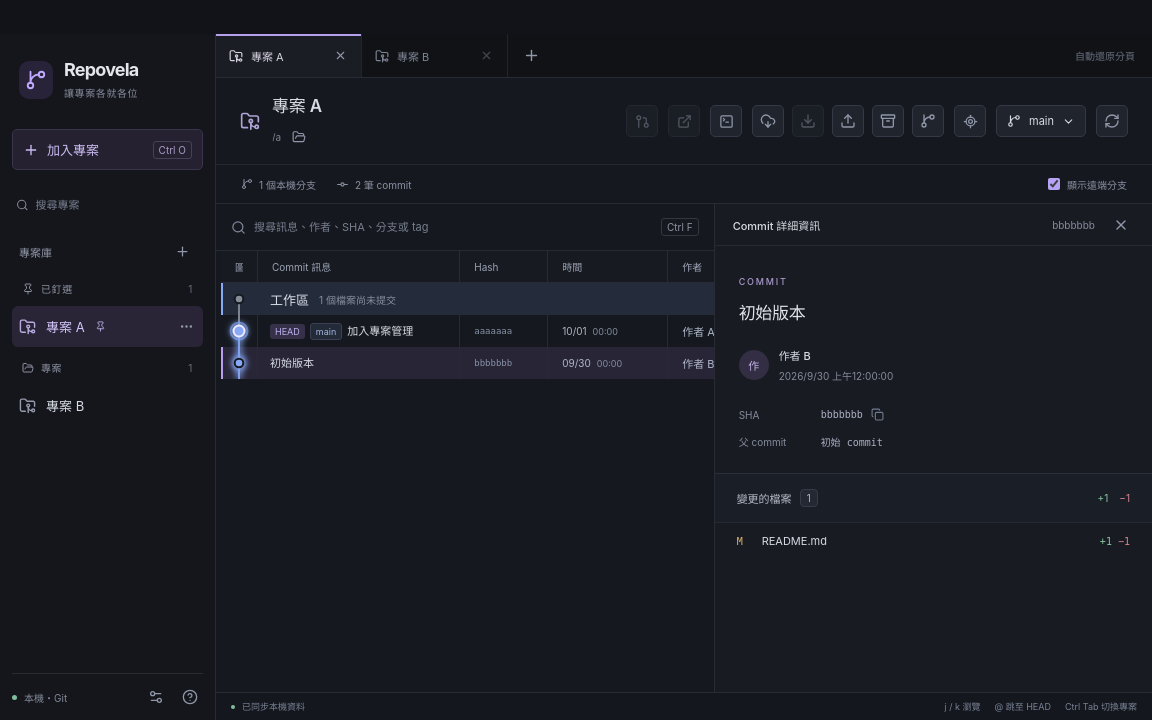
Scenario: 桌面分頁與瀏覽互動 › Stash 儲存訊息與未追蹤選項，刷新清單並保留視窗
The image size is (1152, 720).
Expected: the heading "初始版本" is shown, [739, 303, 806, 323]
Right-click the button with id "commit-worktree": [239, 299] box [221, 283, 779, 315]
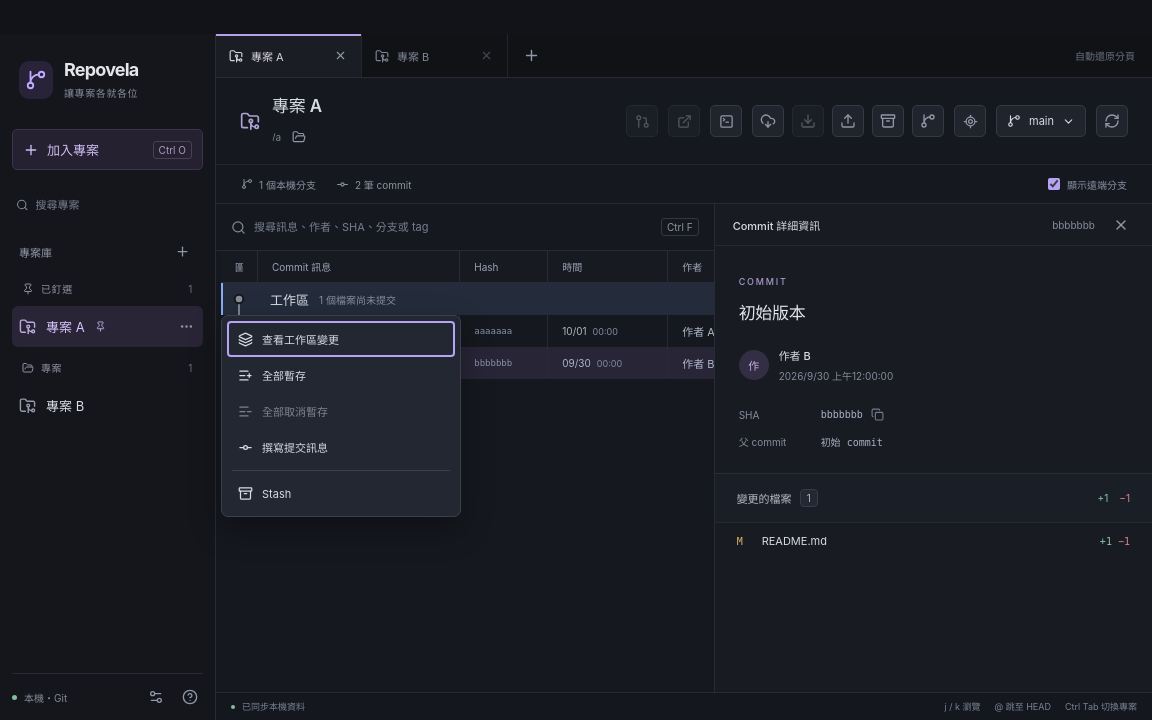
Click the menu item "Stash": [341, 494] box [227, 476, 455, 511]
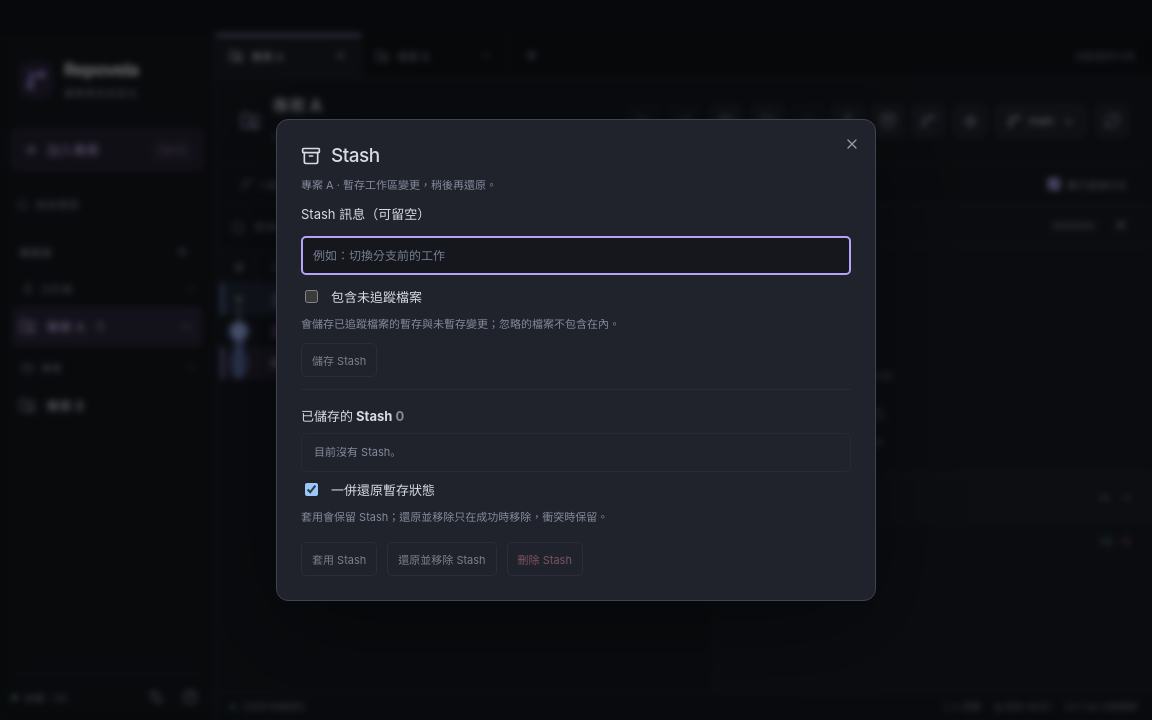
Now the button "儲存 Stash" is disabled, box [301, 343, 377, 377]
Click the checkbox labelled "包含未追蹤檔案": [312, 297] box [305, 290, 318, 303]
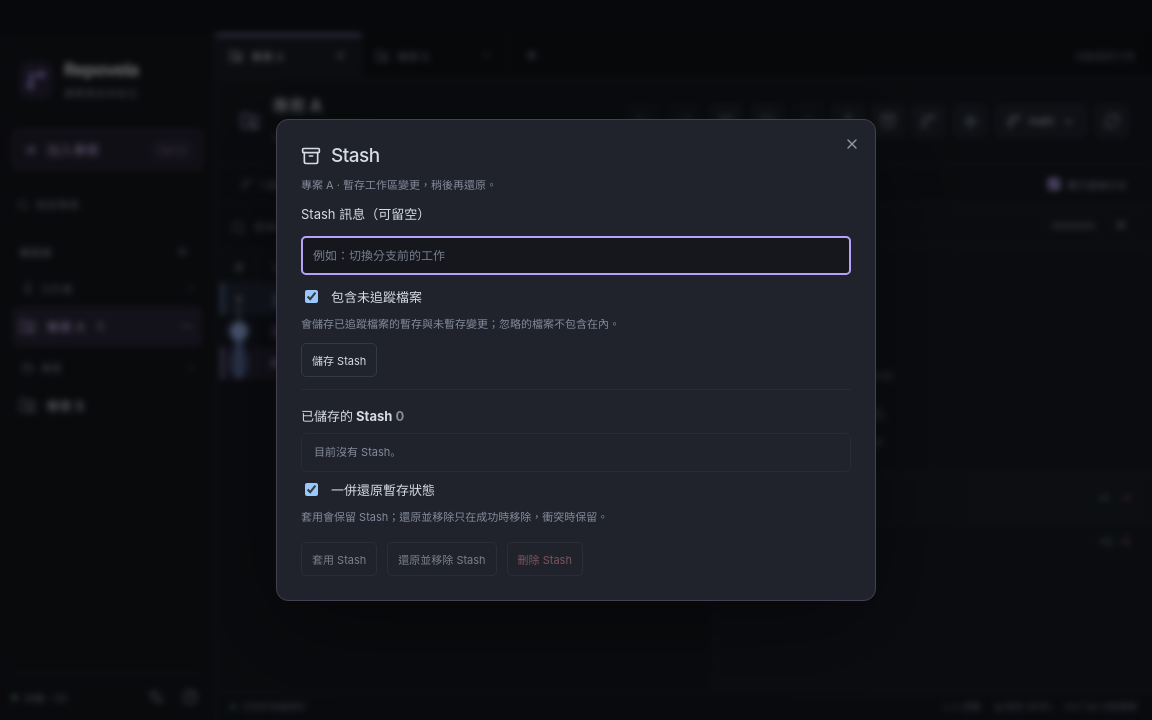
In the field labelled "Stash 訊息（可留空）": [576, 256] box [301, 236, 851, 275], type " 我的暫存 "
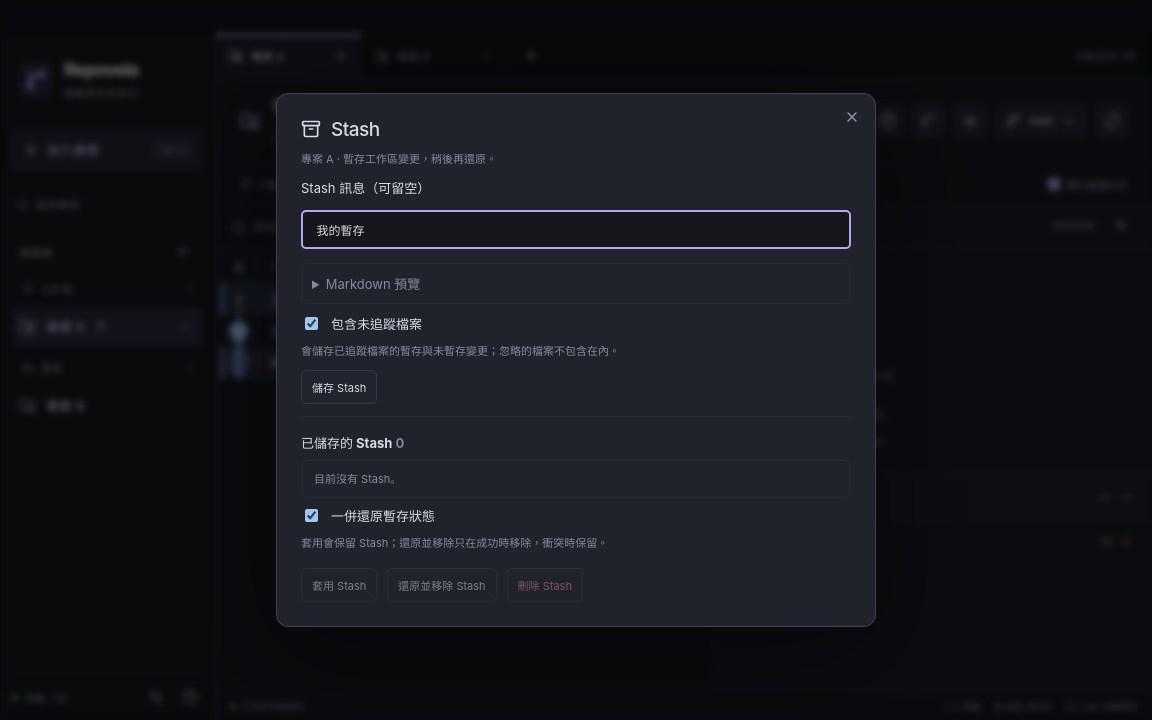
Click the button "儲存 Stash": [339, 386] box [301, 370, 377, 404]
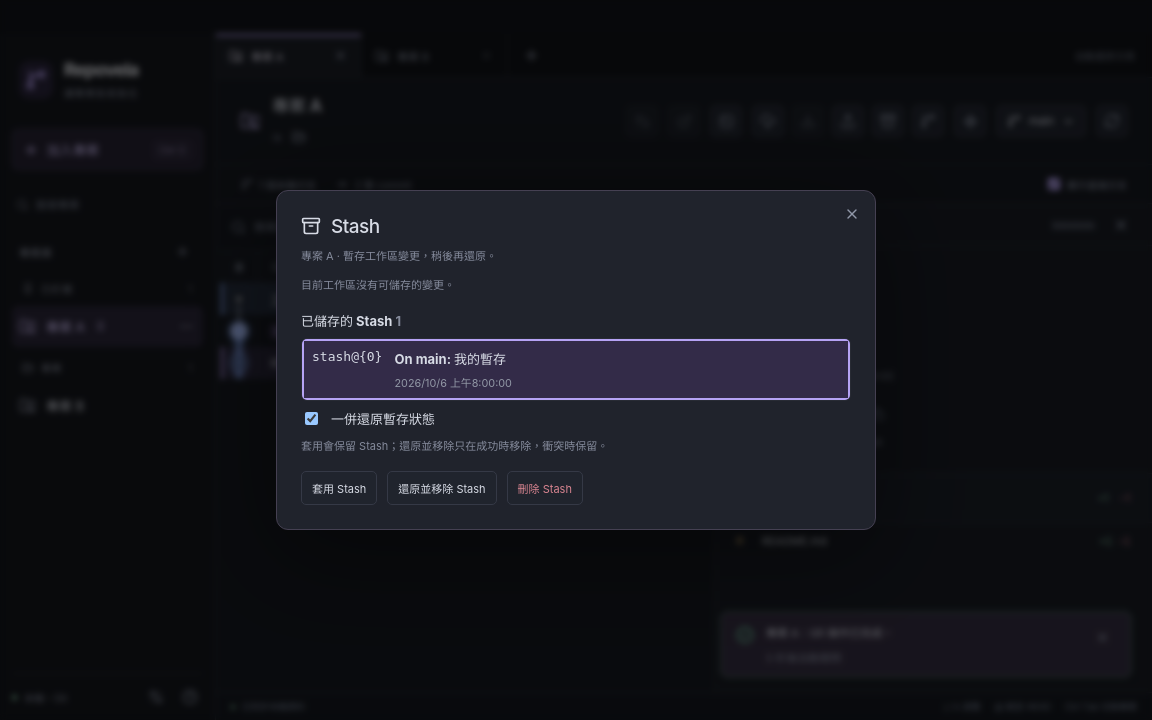
Now the option "我的暫存" is shown, box [302, 339, 850, 400]
Now the label labelled "Stash 訊息（可留空）" is gone
Now the button "儲存 Stash" is gone
Press Escape in the dialog "Stash", box [276, 190, 876, 530]
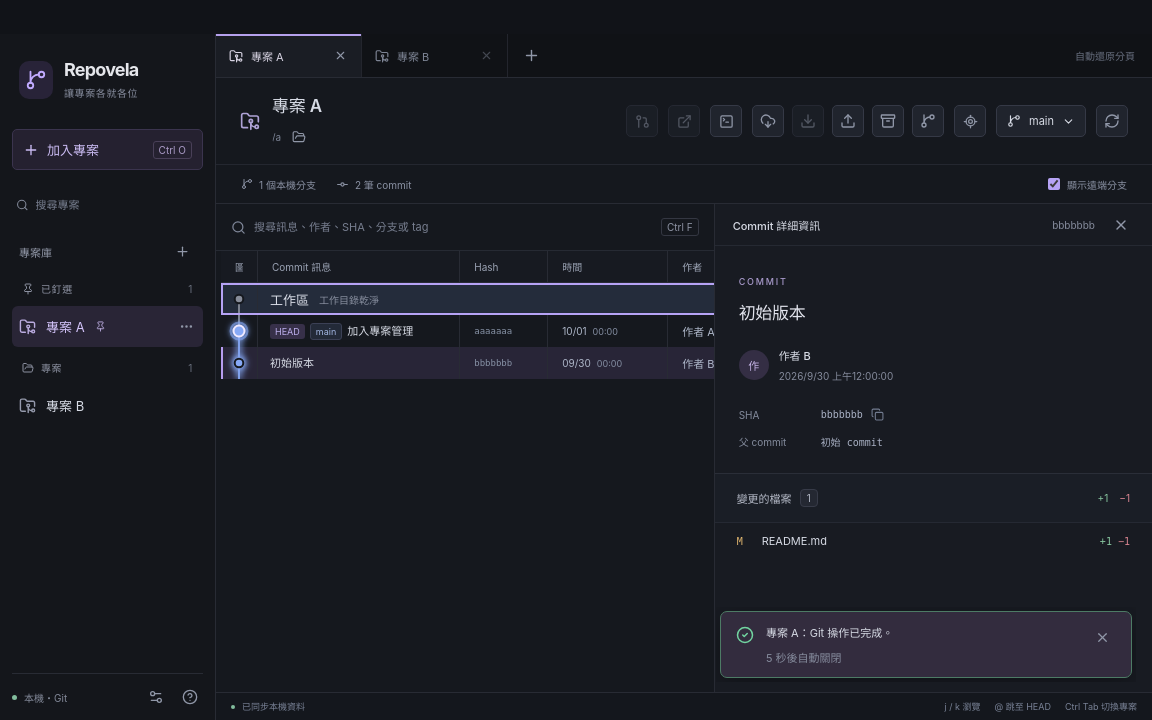
Now the dialog is gone
